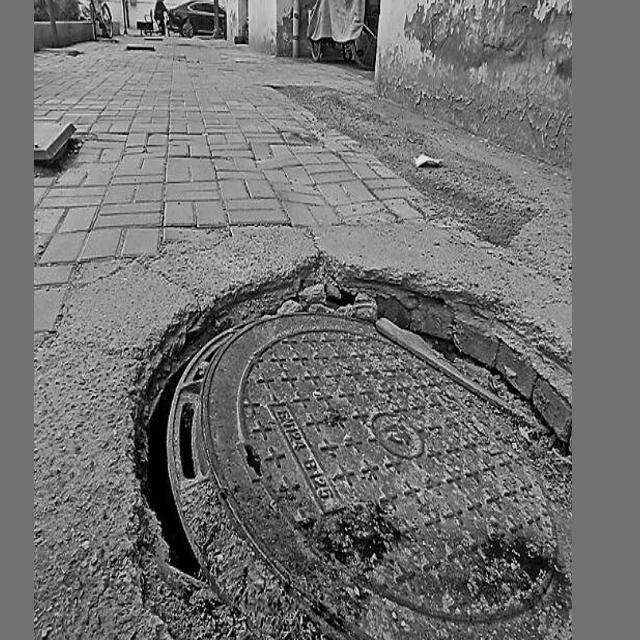circle: (105, 225, 570, 640)
